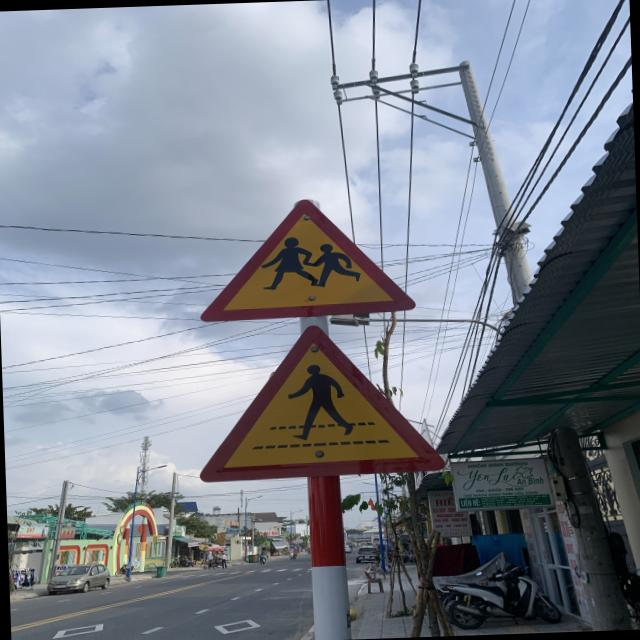Duong_Nguoi_Di_Bo_Sang_Ngang: (191, 319, 447, 483)
Vong_Xuyen: (195, 192, 416, 323)
